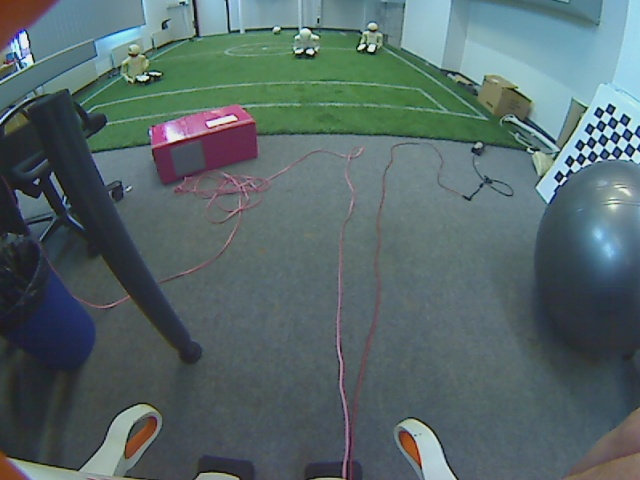ball: (268, 21, 286, 39)
robot: (117, 41, 165, 87), (352, 20, 389, 58), (290, 24, 321, 62)
